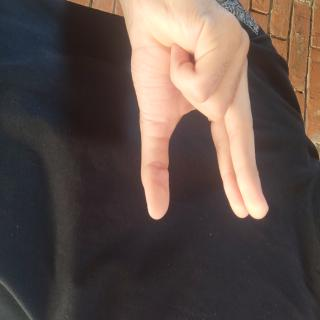DHELL: (0, 63, 169, 281)
